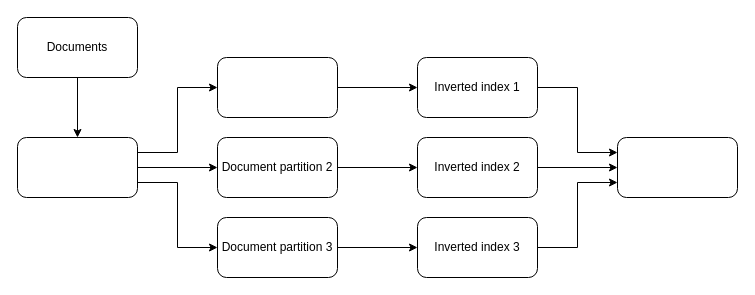
The diagram is 755 pixels wide and 295 high, and some of its shapes have lost their labels. The centre of each missing label's shape, as x and y in pixels:
"Cluster manager" belongs at pixel 77 167.
"Document partition 1" belongs at pixel 277 87.
"Merger" belongs at pixel 677 167.
